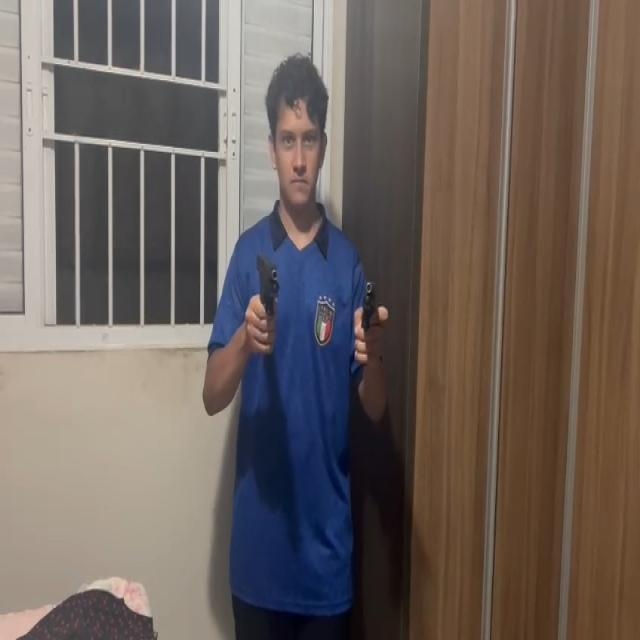gun: (256, 251, 281, 309), (363, 275, 376, 322)
